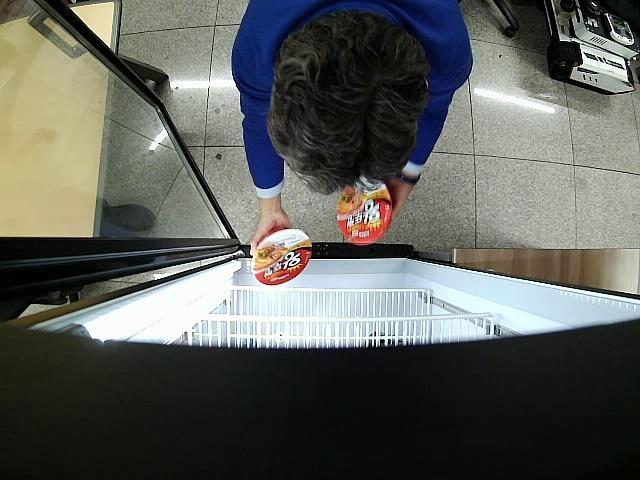10_wangTtukkeong: (337, 177, 392, 246), (252, 229, 312, 285)
